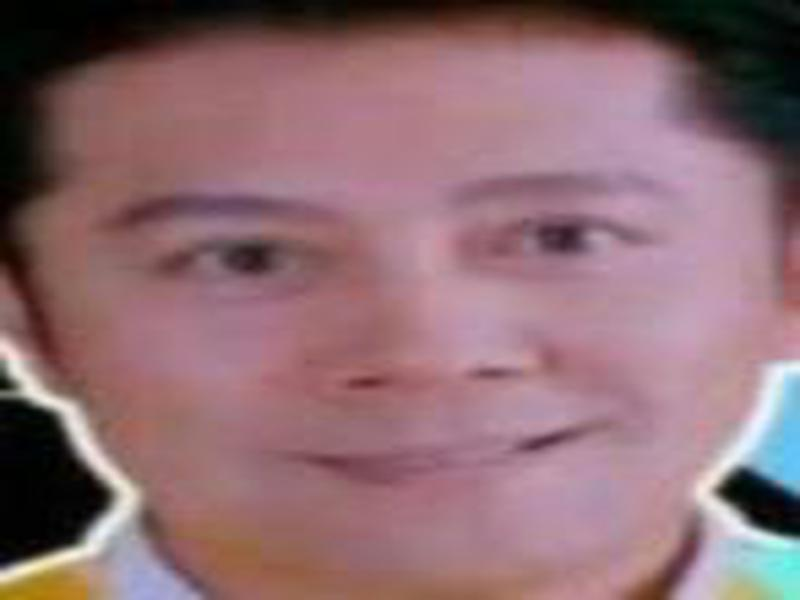without_mask: (48, 57, 755, 593)
